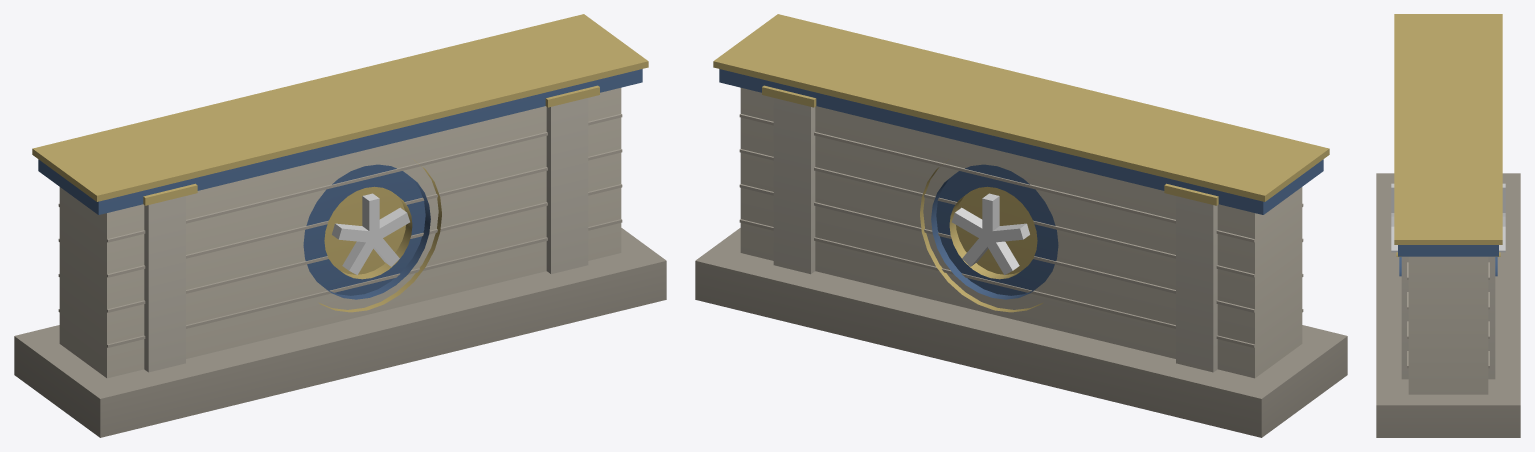
The model's file is gate_monument.glb.
3 renders of one model, left to right at view 1: azimuth 30°, elevation 25°; view 2: azimuth 150°, elevation 25°; view 3: azimuth 270°, elevation 25°, orthographic. The views are drawn at different scales.
Visible parts, largest first — view 1: gate_monument; view 2: gate_monument; view 3: gate_monument.
Boxes of the visible parts, left/top/right/bottom form: gate_monument: left=14, top=14, right=666, bottom=437; gate_monument: left=695, top=14, right=1347, bottom=437; gate_monument: left=1376, top=14, right=1520, bottom=437.
Size of the model in its own units: 7.6 by 2.98 by 2.
